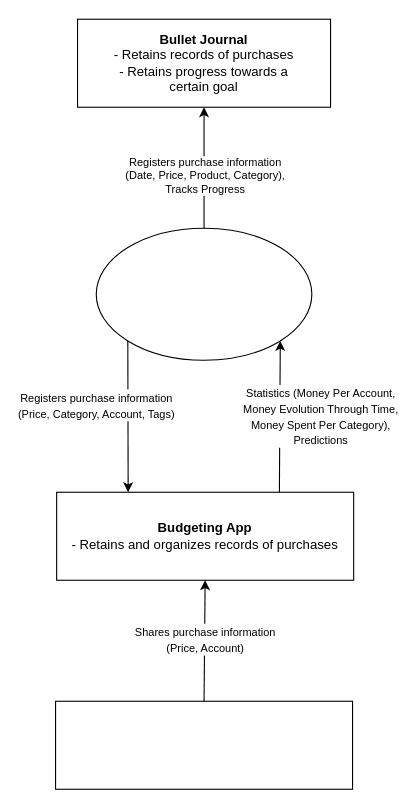
The diagram is 418 pixels wide and 809 high, and some of its shapes have lost their labels. Each missing label, with the centre of its shape:
Bank: (203,744)
User - Records purchases - Tries to achieve goals: (203,293)
